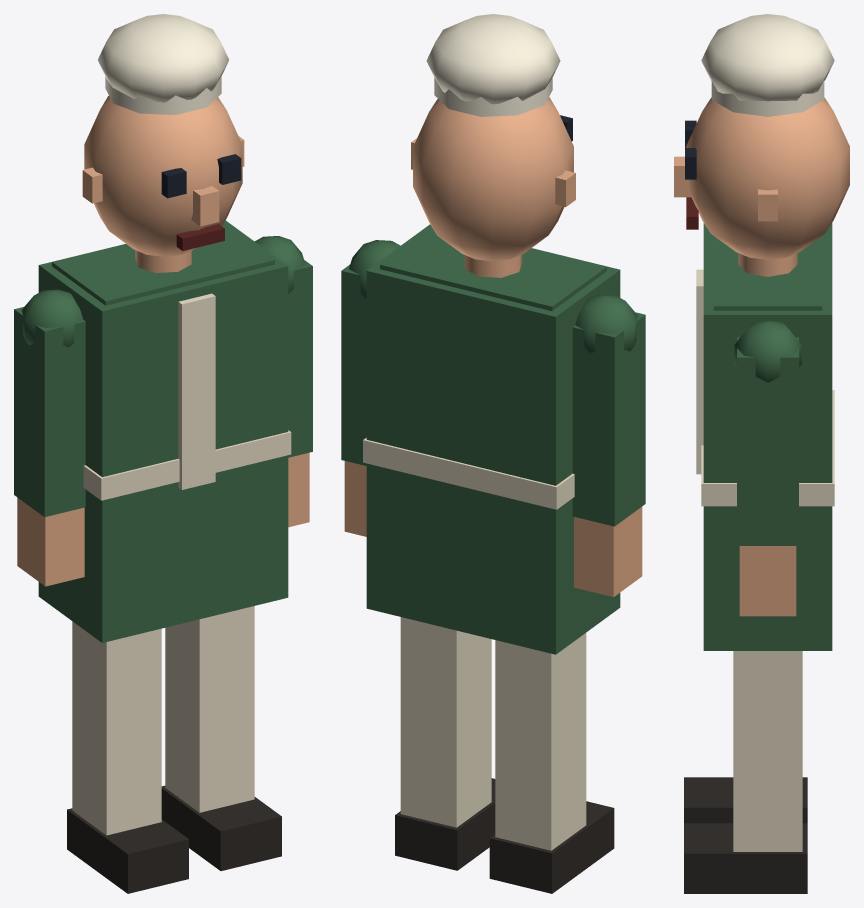
File: lutfi.glb
3 renders of one model, left to right at view 1: azimuth 30°, elevation 25°; view 2: azimuth 150°, elevation 25°; view 3: azimuth 270°, elevation 25°, orthographic.
Parts seen in each view (by area): view 1: Body, LegR, LegL, ArmR, Head, Hat, ArmL, Mouth; view 2: Body, LegR, LegL, ArmR, Head, Hat, ArmL; view 3: Body, Head, LegL, ArmL, Hat, LegR, Mouth.
Boxes of the visible parts, <box> form: Body: <box>38,220,291,642</box>; LegR: <box>67,621,188,893</box>; LegL: <box>161,606,281,870</box>; ArmR: <box>14,289,85,586</box>; Head: <box>82,96,244,256</box>; Hat: <box>98,14,228,114</box>; ArmL: <box>255,236,312,527</box>; Mouth: <box>176,224,224,250</box>; Body: <box>363,224,620,654</box>; LegR: <box>489,633,614,893</box>; LegL: <box>395,617,495,870</box>; ArmR: <box>572,294,645,597</box>; Head: <box>411,97,575,261</box>; Hat: <box>426,14,560,116</box>; ArmL: <box>341,240,400,536</box>; Body: <box>696,223,834,650</box>; Head: <box>674,97,849,259</box>; LegL: <box>684,651,807,893</box>; ArmL: <box>734,320,801,616</box>; Hat: <box>701,14,834,116</box>; LegR: <box>684,777,807,823</box>; Mouth: <box>686,197,698,229</box>.
Size of the model in its own units: 0.6556 by 1.86 by 0.3557.
